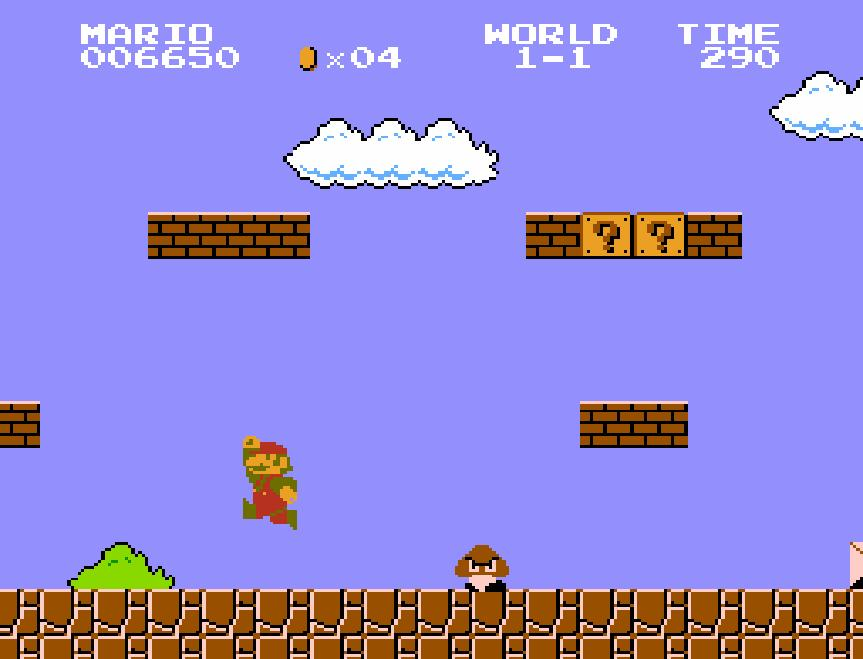big_mario: (240, 434, 298, 532)
